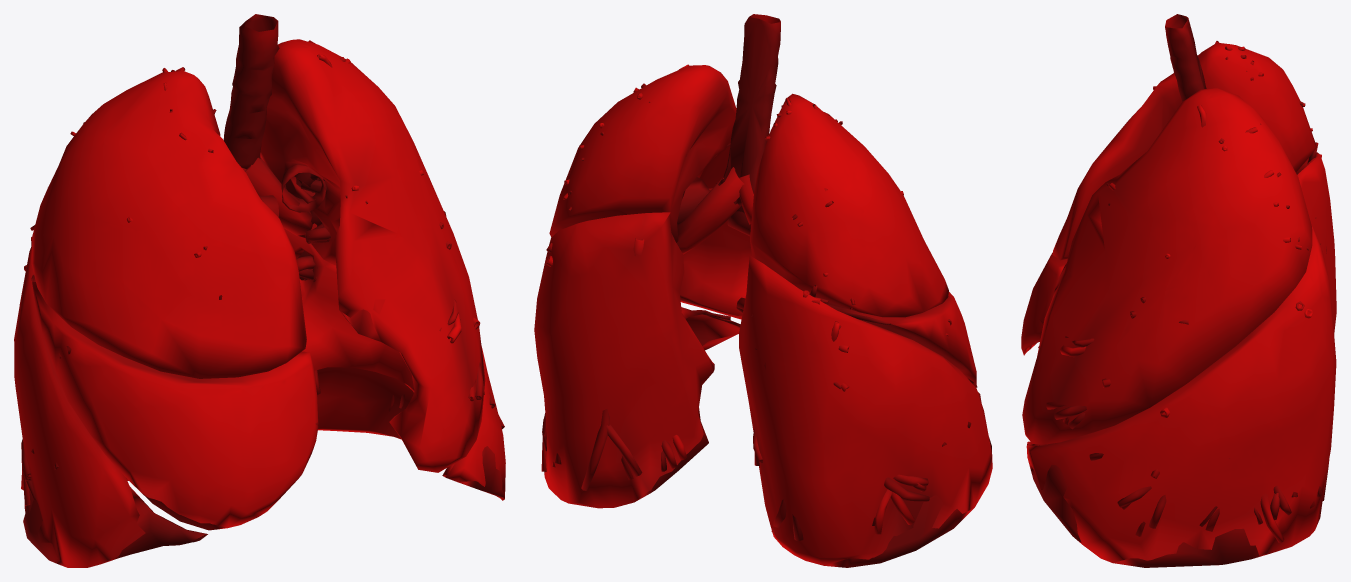
The model's file is pljuca-telefon.glb.
3 renders of one model, left to right at view 1: azimuth 30°, elevation 25°; view 2: azimuth 150°, elevation 25°; view 3: azimuth 270°, elevation 25°, orthographic. The views are drawn at different scales.
Parts seen in each view (by area): view 1: Superior lobe of right lung, Superior lobe of left lung, Middle lobe of right lung, Inferior lobe of right lung, Inferior lobe of left lung, Trachea, Left main bronchus, Left pulmonary artery; view 2: Inferior lobe of right lung, Inferior lobe of left lung, Superior lobe of right lung, Superior lobe of left lung, Trachea, Middle lobe of right lung, Left main bronchus, Posterior basal segmental artery of left lung, Anterior basal segmental artery of right lung, Left pulmonary artery, Lateral basal segmental bronchus of right lung (BIX); view 3: Superior lobe of left lung, Inferior lobe of left lung, Superior lobe of right lung, Inferior lobe of right lung, Trachea, Middle lobe of right lung, Lateral basal segmental artery of left lung, Lateral basal segmental bronchus of left lung (BIX), Anterior basal segmental artery of left lung, Inferior lingular artery of left lung.
Boxes of the visible parts, x1,y1,x2,y2 form: Superior lobe of right lung: (31,71,306,378); Superior lobe of left lung: (260,39,485,472); Middle lobe of right lung: (31,275,318,530); Inferior lobe of right lung: (14,245,207,567); Inferior lobe of left lung: (260,154,505,500); Trachea: (223,14,279,169); Left main bronchus: (245,157,312,235); Left pulmonary artery: (281,164,325,212); Inferior lobe of right lung: (739,255,992,567); Inferior lobe of left lung: (534,212,740,508); Superior lobe of right lung: (750,93,948,317); Superior lobe of left lung: (549,65,752,319); Trachea: (718,14,780,205); Middle lobe of right lung: (828,292,977,387); Left main bronchus: (676,167,744,254); Posterior basal segmental artery of left lung: (581,409,676,490); Anterior basal segmental artery of right lung: (872,474,929,525); Left pulmonary artery: (677,177,709,224); Lateral basal segmental bronchus of right lung (BIX): (874,489,915,534); Superior lobe of left lung: (1022,88,1312,444); Inferior lobe of left lung: (1026,226,1336,567); Superior lobe of right lung: (1052,42,1316,260); Inferior lobe of right lung: (1038,153,1336,347); Trachea: (1165,14,1206,101); Middle lobe of right lung: (1021,252,1067,355); Lateral basal segmental artery of left lung: (1089,453,1166,528); Lateral basal segmental bronchus of left lung (BIX): (1205,493,1284,542); Anterior basal segmental artery of left lung: (1199,485,1322,526); Inferior lingular artery of left lung: (1054,405,1086,429).
Bounding box in the file's own units: 0.2584 × 0.2925 × 0.1822.
1 material, 1 textured.
